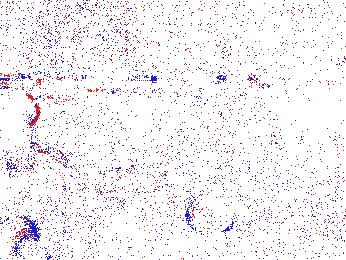flame jellyfish: (1, 85, 41, 177), (181, 191, 236, 247), (1, 215, 51, 260)
